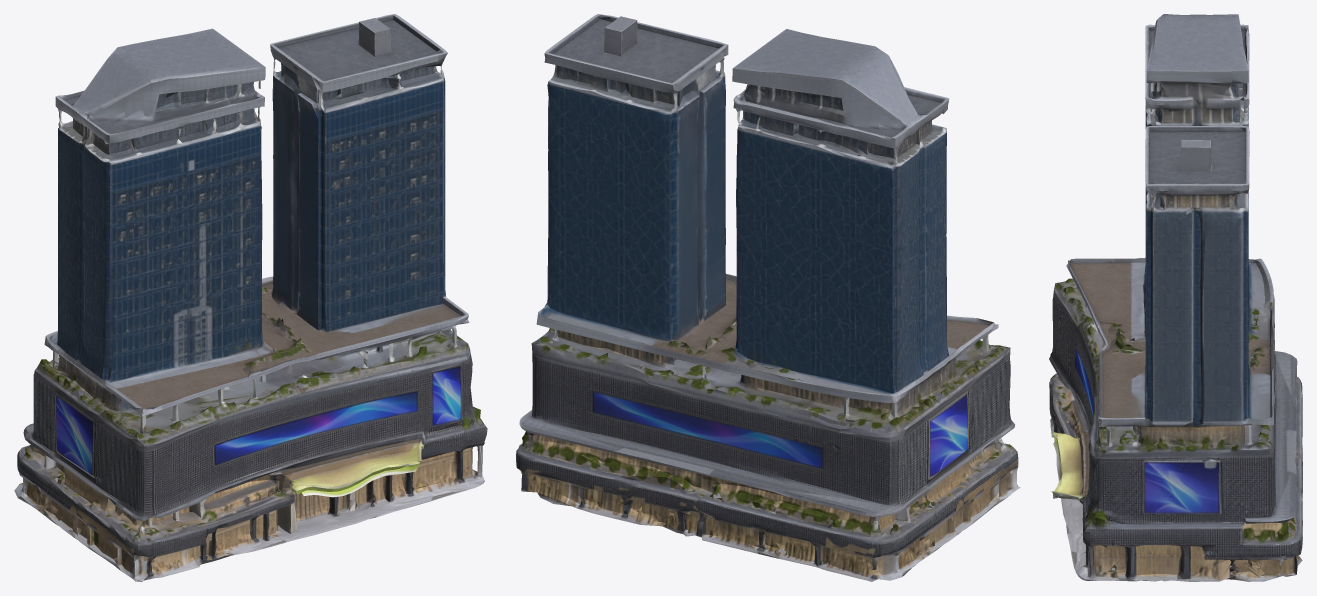
File: edificio.glb
The picture shows the model from 3 angles, left to right: view 1: azimuth 30°, elevation 25°; view 2: azimuth 150°, elevation 25°; view 3: azimuth 270°, elevation 25°; orthographic projection. The views are drawn at different scales.
Parts seen in each view (by area): view 1: Mesh0; view 2: Mesh0; view 3: Mesh0.
Part boxes in pixels (x1=…): Mesh0: x1=14, y1=14, x2=487, y2=581; Mesh0: x1=516, y1=14, x2=1020, y2=581; Mesh0: x1=1049, y1=14, x2=1302, y2=581.
Size of the model in its own units: 1.64 by 1.89 by 1.01.
Materials: 1 (1 with a texture image).
